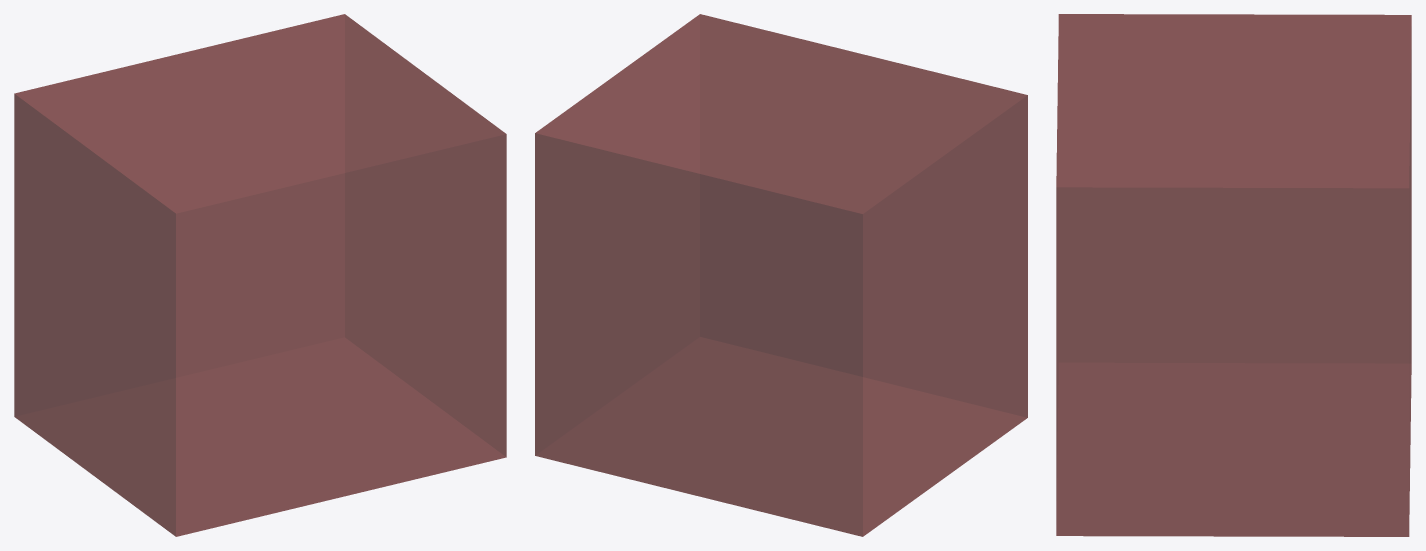
Rendered from House6_Collider.fbx.
The picture shows the model from 3 angles, left to right: view 1: azimuth 30°, elevation 25°; view 2: azimuth 150°, elevation 25°; view 3: azimuth 270°, elevation 25°; orthographic projection. The views are drawn at different scales.
Parts seen in each view (by area): view 1: BoundingBox89; view 2: BoundingBox89; view 3: BoundingBox89.
Part boxes in pixels (x1,y1,x2,y2): BoundingBox89: (14, 14, 506, 536); BoundingBox89: (535, 14, 1027, 536); BoundingBox89: (1056, 14, 1411, 536).
Bounding box in the file's own units: 21.97 × 20.49 × 18.93.
